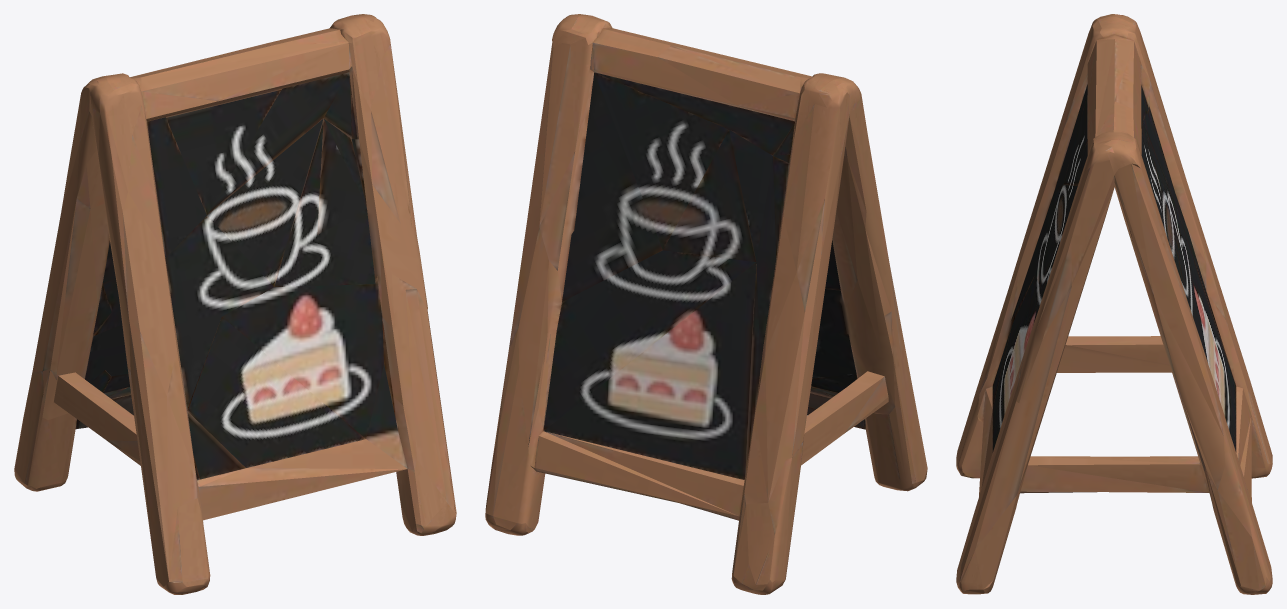
File: cafe-menu-board.glb
The picture shows the model from 3 angles, left to right: view 1: azimuth 30°, elevation 25°; view 2: azimuth 150°, elevation 25°; view 3: azimuth 270°, elevation 25°; orthographic projection.
Parts seen in each view (by area): view 1: cafe-menu-board-fit; view 2: cafe-menu-board-fit; view 3: cafe-menu-board-fit.
Part boxes in pixels (box(x1,y1,x2,y2)): cafe-menu-board-fit: box(14, 14, 456, 594); cafe-menu-board-fit: box(485, 14, 927, 594); cafe-menu-board-fit: box(956, 14, 1272, 594).
Bounding box in the file's own units: 0.99 × 1.5 × 0.9514.
Materials: 1 (1 with a texture image).
